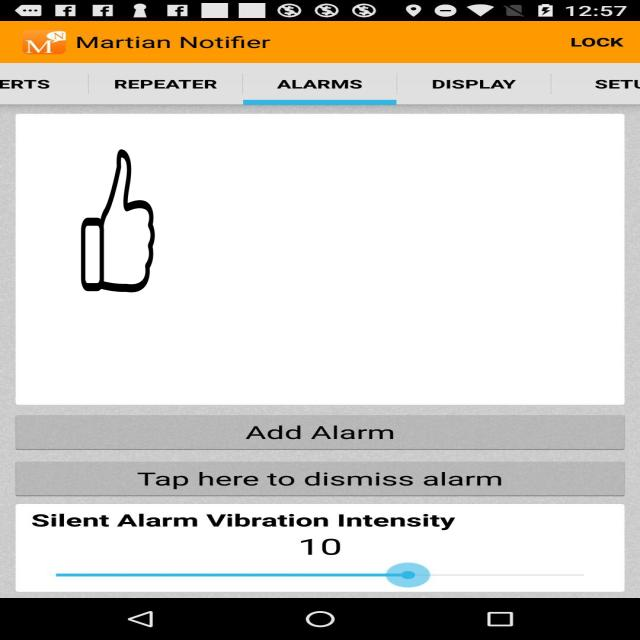privacy zuckering: (80, 150, 156, 292)
